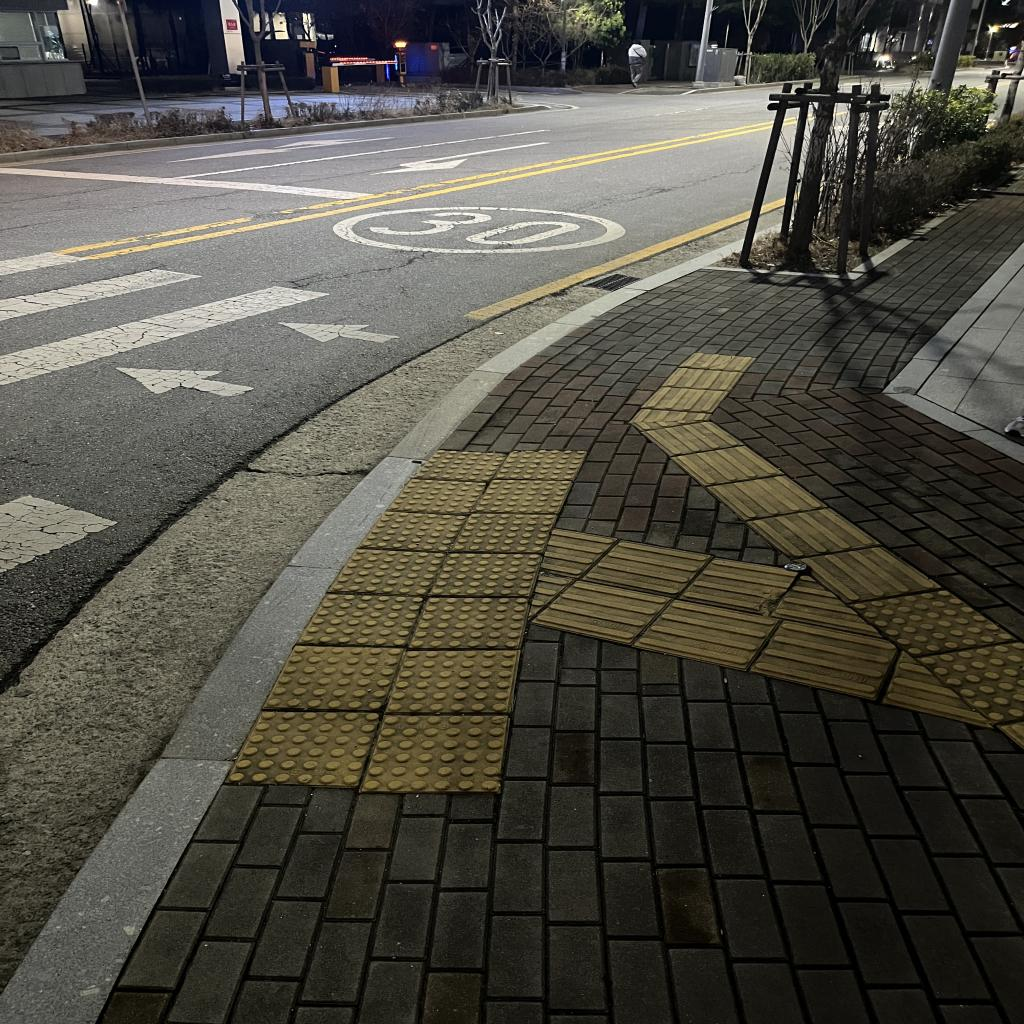Stop block normal: (226, 711, 381, 786), (362, 714, 509, 793), (264, 645, 404, 712), (385, 650, 518, 712), (297, 594, 426, 649), (409, 597, 530, 648), (328, 548, 446, 597), (431, 552, 541, 597), (359, 510, 467, 555), (452, 513, 557, 553)
Straight block broken: (678, 553, 799, 620)
Straight block normal: (634, 594, 780, 673), (796, 535, 939, 611), (531, 574, 671, 649), (582, 535, 711, 602), (747, 500, 879, 565), (706, 467, 826, 526)
